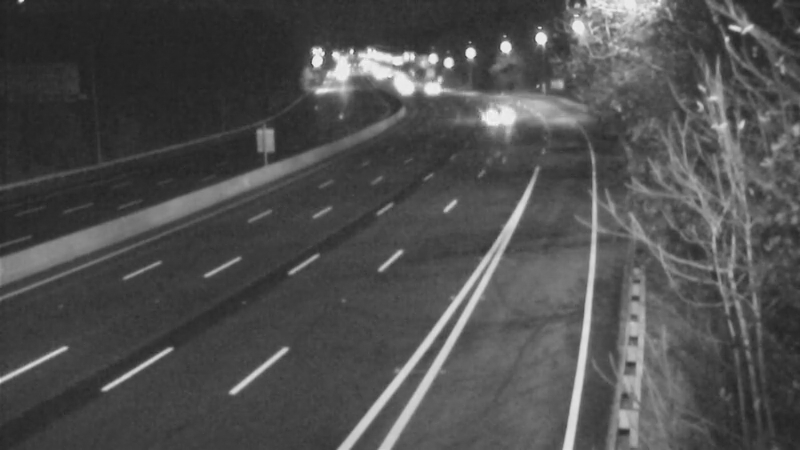vehicle: (381, 63, 431, 113), (402, 60, 452, 110), (474, 85, 524, 135)
